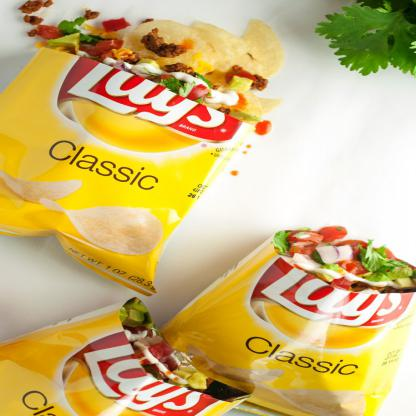potatochip: (0, 36, 260, 299), (133, 216, 413, 416), (0, 289, 263, 415)
